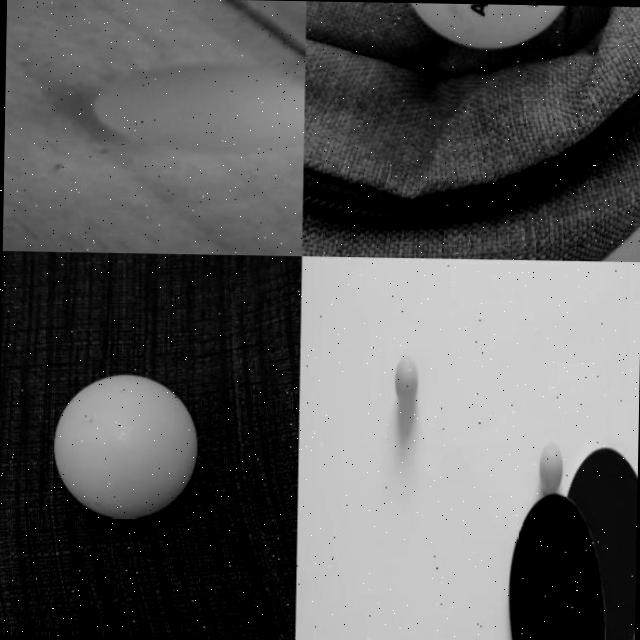ping-pong-ball: (51, 372, 198, 516), (88, 60, 303, 154), (394, 1, 574, 49), (539, 441, 562, 492), (394, 356, 417, 404)
